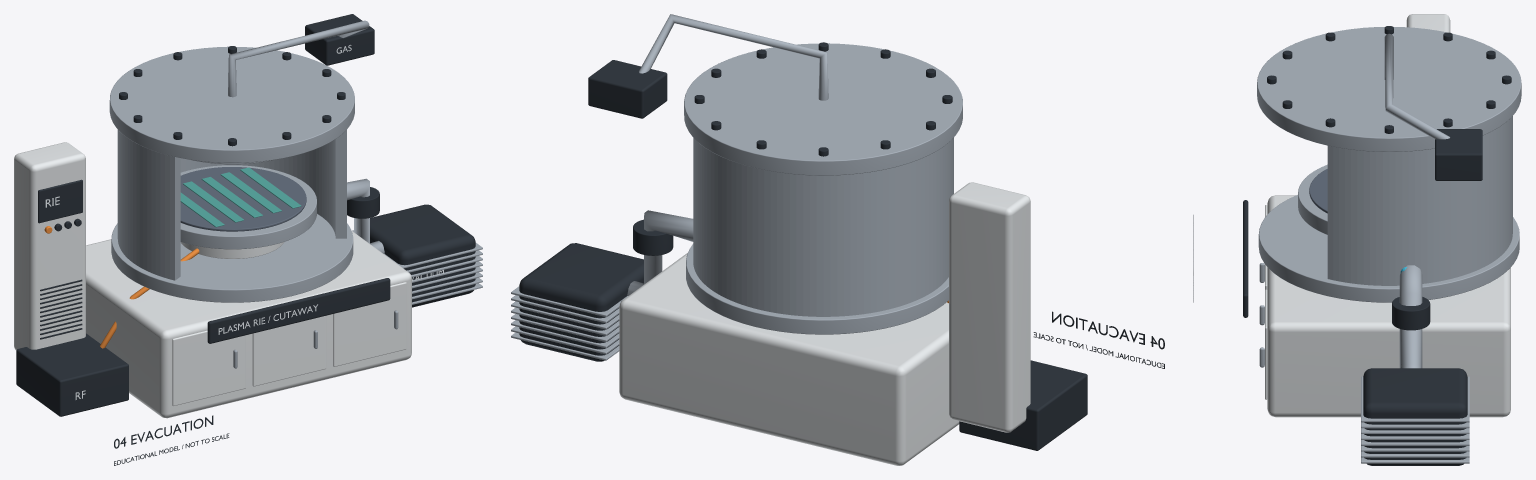
Rendered from rie_04_evacuation.glb.
3 views of the same model, side by side, from view 1: azimuth 30°, elevation 25°; view 2: azimuth 150°, elevation 25°; view 3: azimuth 270°, elevation 25° (orthographic). The views are drawn at different scales.
Parts seen in each view (by area): view 1: Lid.003, Equipment cabinet.003, Control console.003, Chamber cutaway wall.003, Bottom chamber flange.003, RF generator.003, Vacuum pump.003, Wafer.003, Service access panel.009, Caption panel.003, Service access panel.011, Service access panel.010 (+12 smaller); view 2: Equipment cabinet.003, Chamber cutaway wall.003, Lid.003, Control console.003, Vacuum pump.003, Bottom chamber flange.003, RF generator.003, Mass flow module.003, Gas supply pipe.003, Exhaust line.003, Exhaust valve.003; view 3: Lid.003, Equipment cabinet.003, Chamber cutaway wall.003, Bottom chamber flange.003, Vacuum pump.003, Mass flow module.003, Exhaust line.003, Gas supply pipe.003, RF powered lower electrode.003, Exhaust valve.003, Pump cooling fin.031, Caption panel.003 (+9 smaller).
Part boxes in pixels (x1=…): Lid.003: x1=109, y1=46, x2=354, y2=162; Equipment cabinet.003: x1=86, y1=231, x2=411, y2=418; Control console.003: x1=14, y1=142, x2=85, y2=350; Chamber cutaway wall.003: x1=117, y1=129, x2=346, y2=280; Bottom chamber flange.003: x1=111, y1=214, x2=353, y2=302; RF generator.003: x1=16, y1=333, x2=128, y2=416; Vacuum pump.003: x1=370, y1=204, x2=475, y2=307; Wafer.003: x1=180, y1=167, x2=306, y2=231; Service access panel.009: x1=172, y1=330, x2=245, y2=406; Caption panel.003: x1=207, y1=278, x2=390, y2=343; Service access panel.011: x1=333, y1=282, x2=406, y2=366; Service access panel.010: x1=252, y1=316, x2=326, y2=386; Equipment cabinet.003: x1=619, y1=253, x2=959, y2=465; Chamber cutaway wall.003: x1=693, y1=138, x2=953, y2=316; Lid.003: x1=684, y1=43, x2=962, y2=175; Control console.003: x1=949, y1=182, x2=1030, y2=432; Vacuum pump.003: x1=519, y1=243, x2=643, y2=361; Bottom chamber flange.003: x1=686, y1=244, x2=948, y2=334; RF generator.003: x1=959, y1=360, x2=1087, y2=450; Mass flow module.003: x1=588, y1=60, x2=667, y2=118; Gas supply pipe.003: x1=639, y1=14, x2=828, y2=100; Exhaust line.003: x1=627, y1=210, x2=693, y2=295; Exhaust valve.003: x1=633, y1=219, x2=673, y2=255; Lid.003: x1=1257, y1=27, x2=1521, y2=151; Equipment cabinet.003: x1=1267, y1=195, x2=1510, y2=417; Chamber cutaway wall.003: x1=1327, y1=116, x2=1512, y2=285; Bottom chamber flange.003: x1=1258, y1=195, x2=1519, y2=302; Vacuum pump.003: x1=1363, y1=368, x2=1467, y2=465; Mass flow module.003: x1=1435, y1=129, x2=1482, y2=180; Exhaust line.003: x1=1399, y1=265, x2=1422, y2=368; Gas supply pipe.003: x1=1384, y1=33, x2=1449, y2=139; RF powered lower electrode.003: x1=1298, y1=164, x2=1327, y2=234; Exhaust valve.003: x1=1392, y1=297, x2=1430, y2=330; Pump cooling fin.031: x1=1361, y1=376, x2=1469, y2=422; Caption panel.003: x1=1243, y1=200, x2=1248, y2=317.
Bounding box in the file's own units: 6.39 × 4.05 × 3.77.
